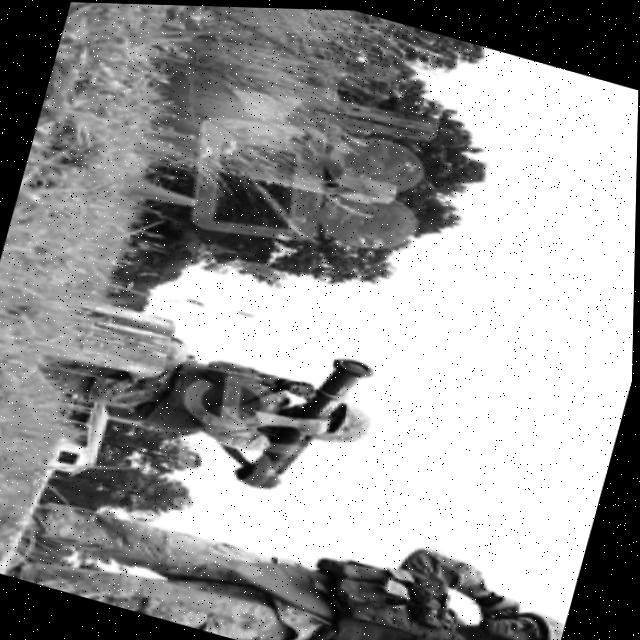rocket: (206, 328, 394, 518)
